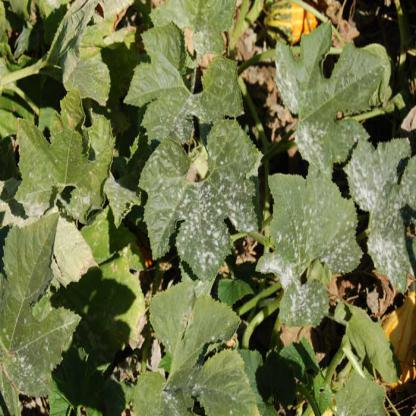Squash Powdery mildew leaf: (138, 115, 266, 283), (270, 20, 389, 167), (255, 168, 361, 329), (131, 21, 250, 149), (7, 310, 86, 408), (137, 359, 263, 415)
